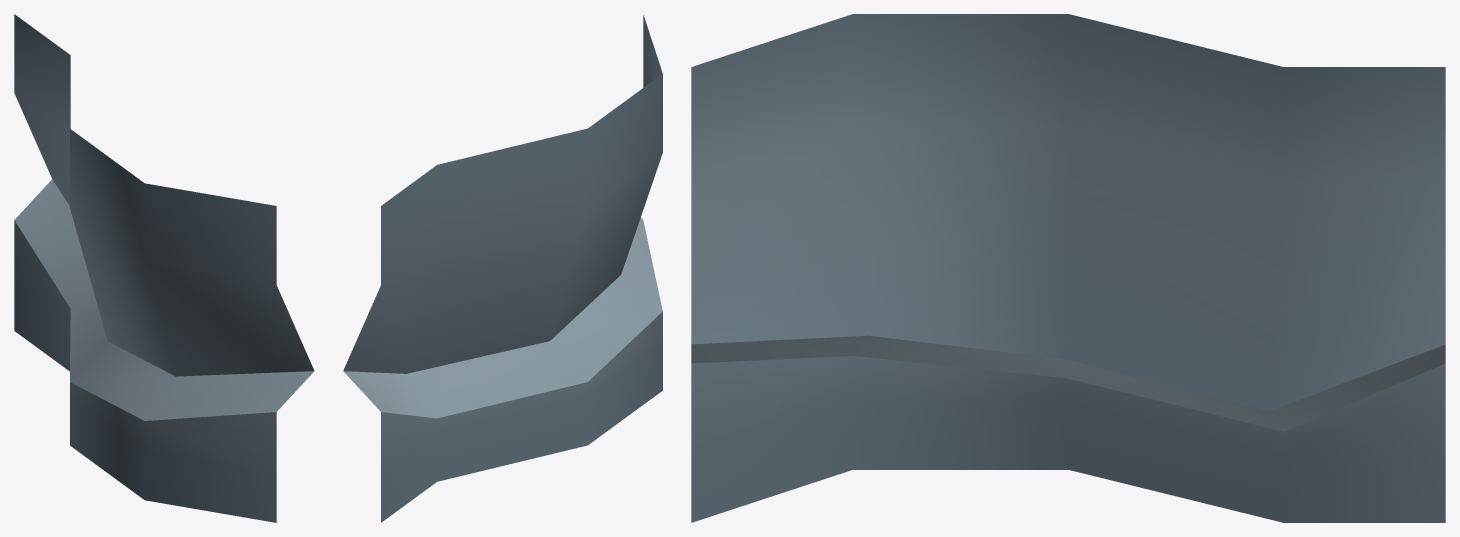
The model's file is Hill_Cliff_D_Side_Color4.fbx.
3 views of the same model, side by side, from view 1: azimuth 30°, elevation 25°; view 2: azimuth 150°, elevation 25°; view 3: azimuth 270°, elevation 25° (orthographic). The views are drawn at different scales.
Parts seen in each view (by area): view 1: Hill_Cliff_D_Side_Color4; view 2: Hill_Cliff_D_Side_Color4; view 3: Hill_Cliff_D_Side_Color4.
Part boxes in pixels (bbox=[...]): Hill_Cliff_D_Side_Color4: bbox=[14, 14, 314, 522]; Hill_Cliff_D_Side_Color4: bbox=[343, 15, 662, 522]; Hill_Cliff_D_Side_Color4: bbox=[691, 14, 1445, 522].
Bounding box in the file's own units: 0.75 × 2 × 3.
